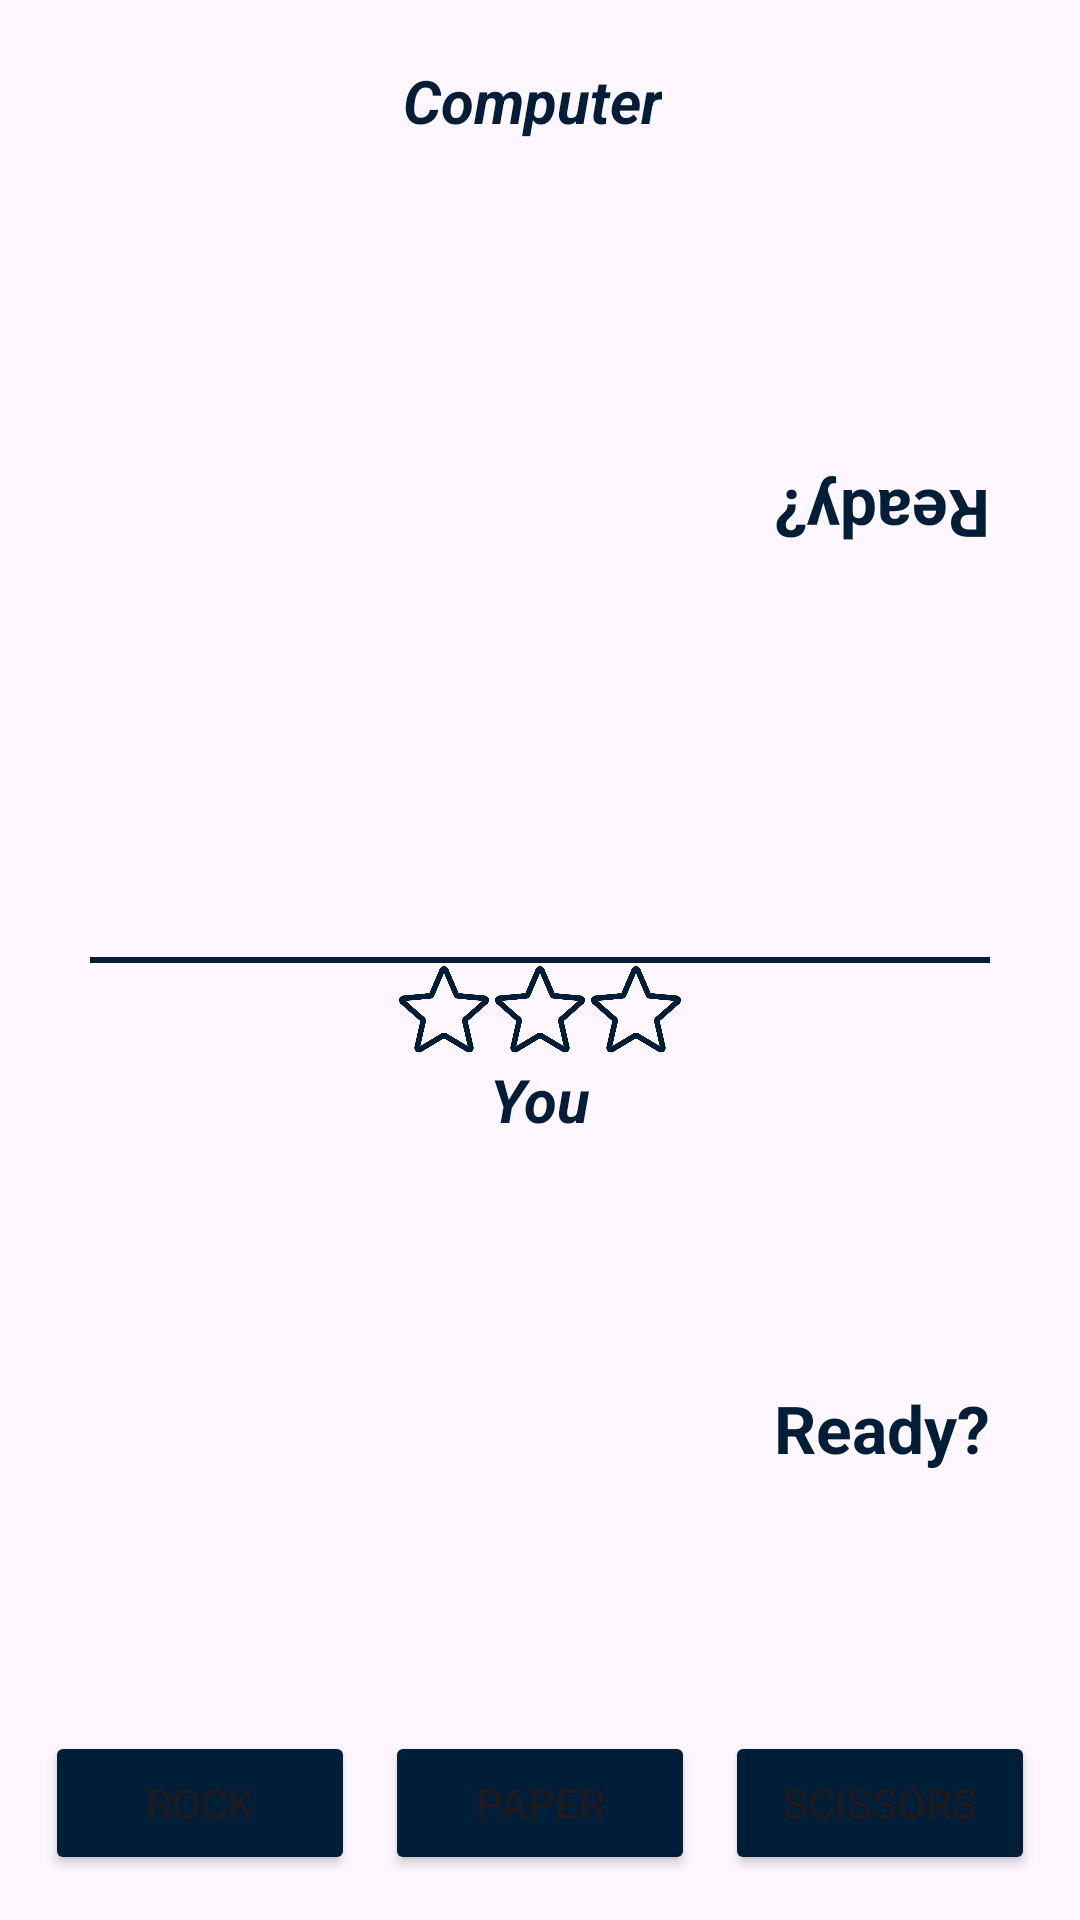

Screen size 1080 × 1920. Icon name, then its center in pixels as [x,y]:
star: [444,1009], [540,1009], [636,1009]
